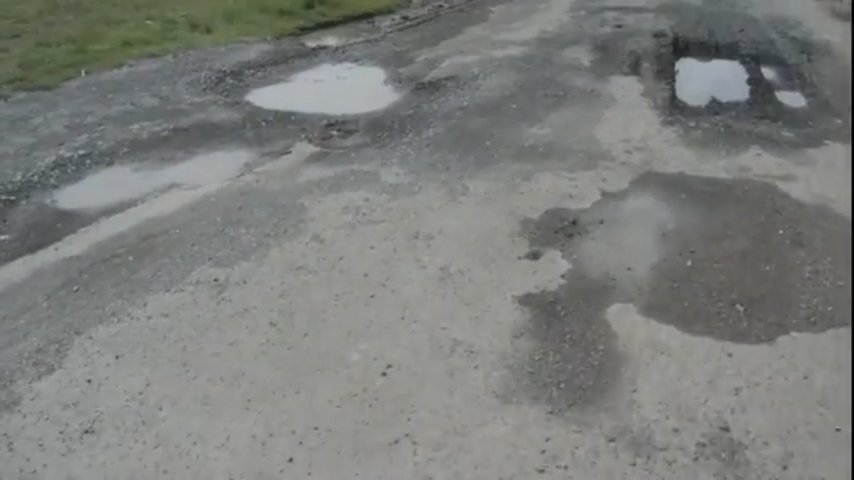pothole: (539, 148, 854, 379)
